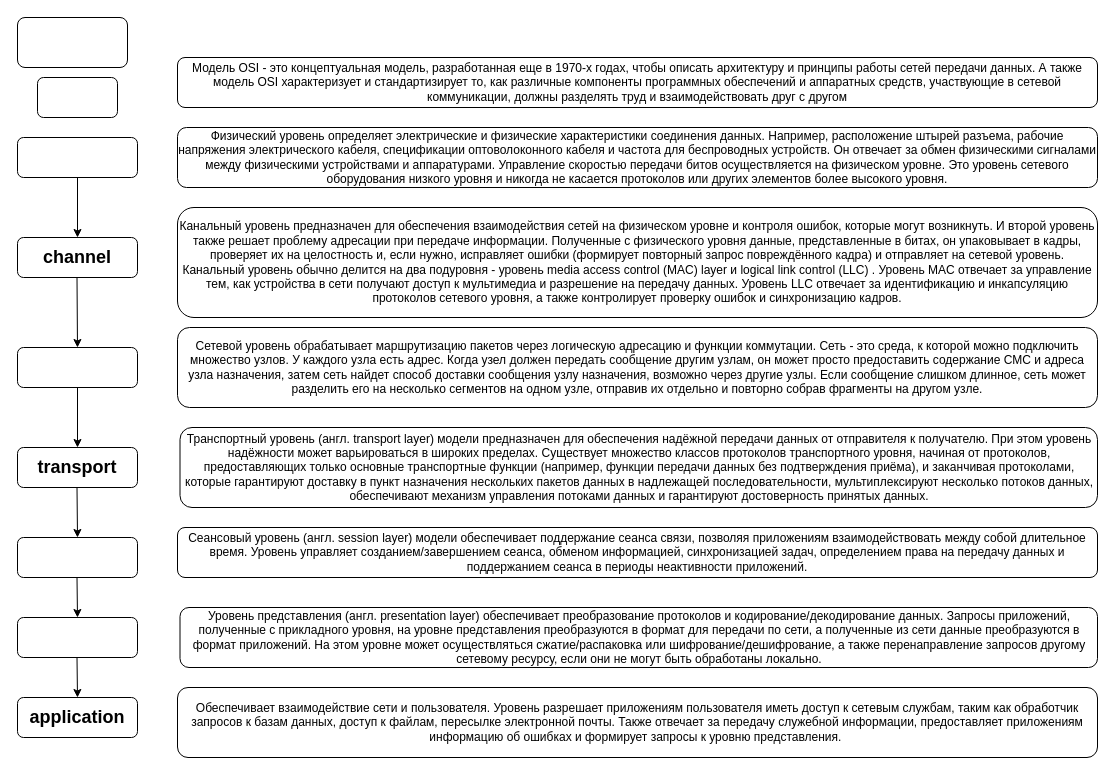
Image size: 1115x775. Some labels were removed from this diagram. The centre of each missing label's shape, as x and y in pixels:
"network" goes at [77,367].
"Networks" goes at [72,42].
"osi" goes at [77,97].
"physical" goes at [77,157].
"presentation" goes at [77,637].
"session" goes at [77,557].
